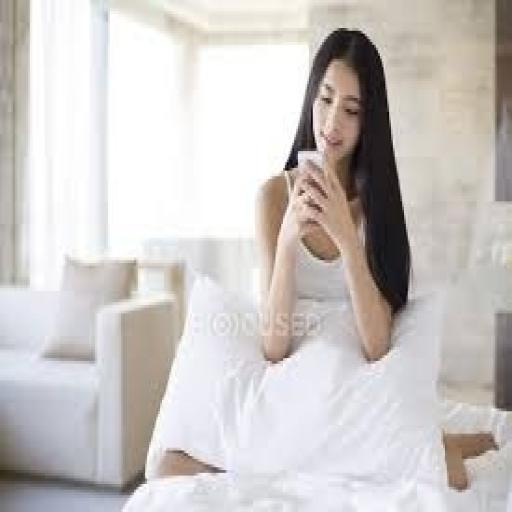texting: (250, 25, 414, 367)
